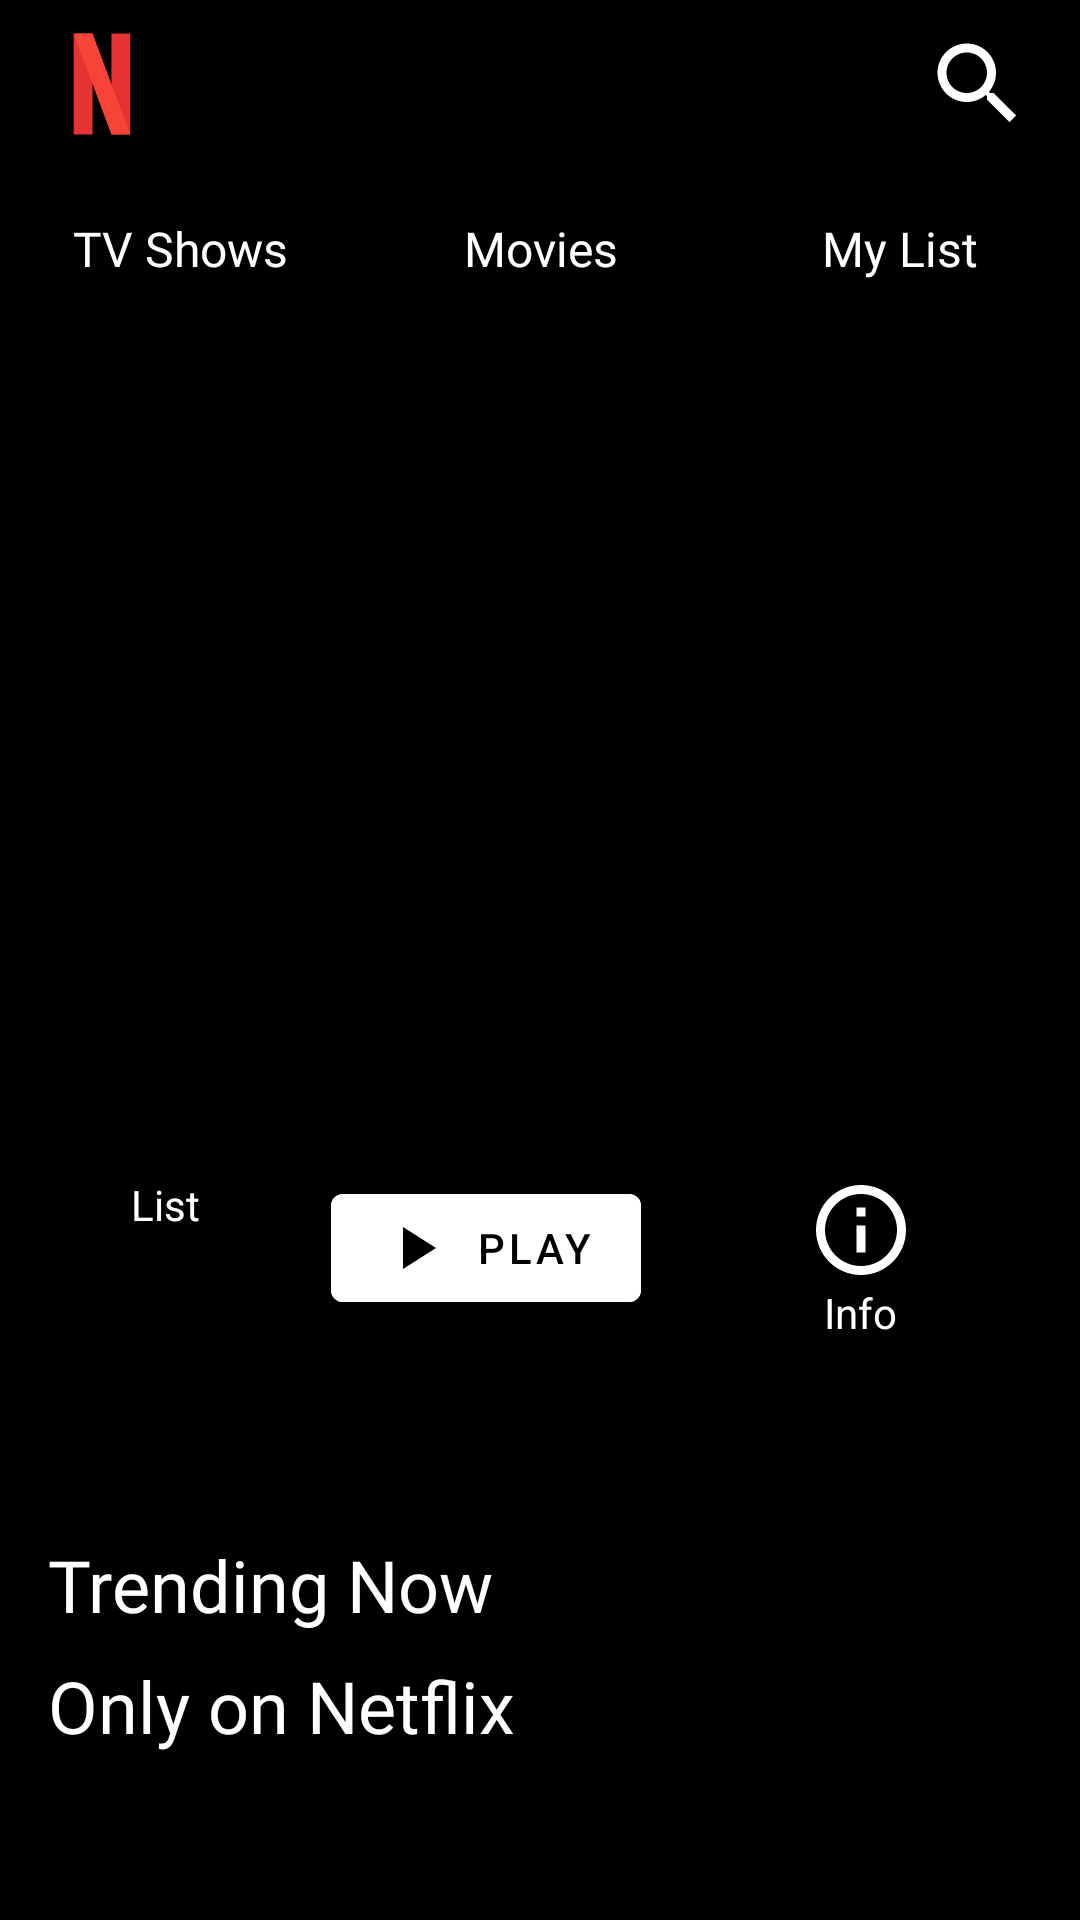

Named icons in this screenshot (1080x1920) and their centers, (x,y):
Search Button: (976,82)
